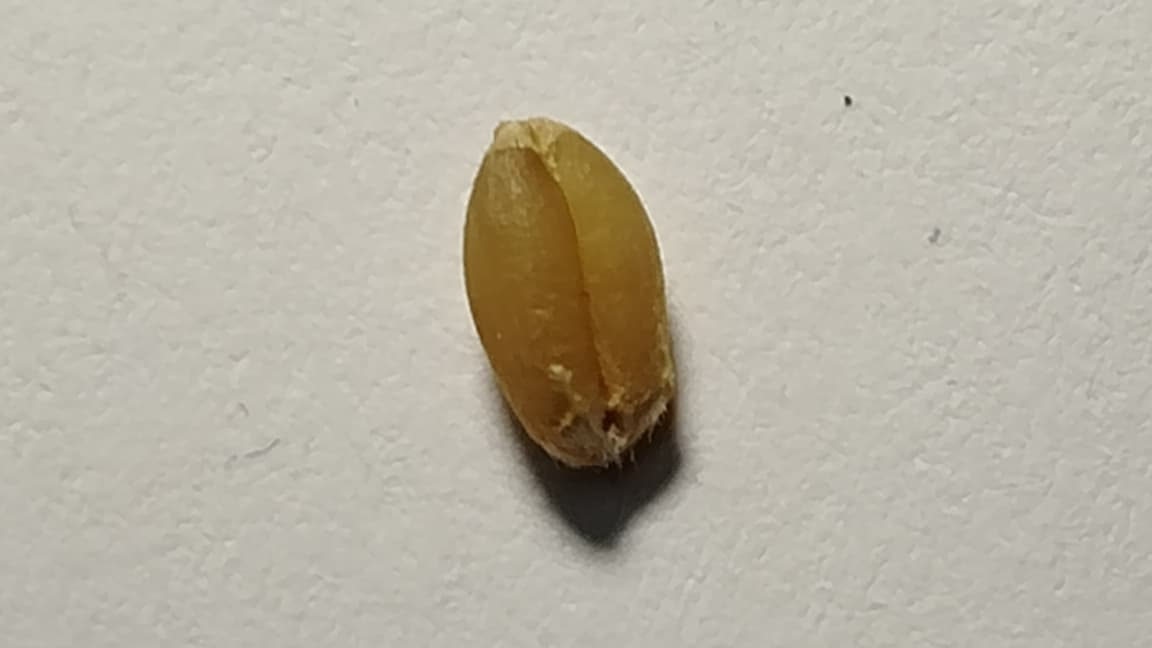healthy: (464, 119, 675, 466)
